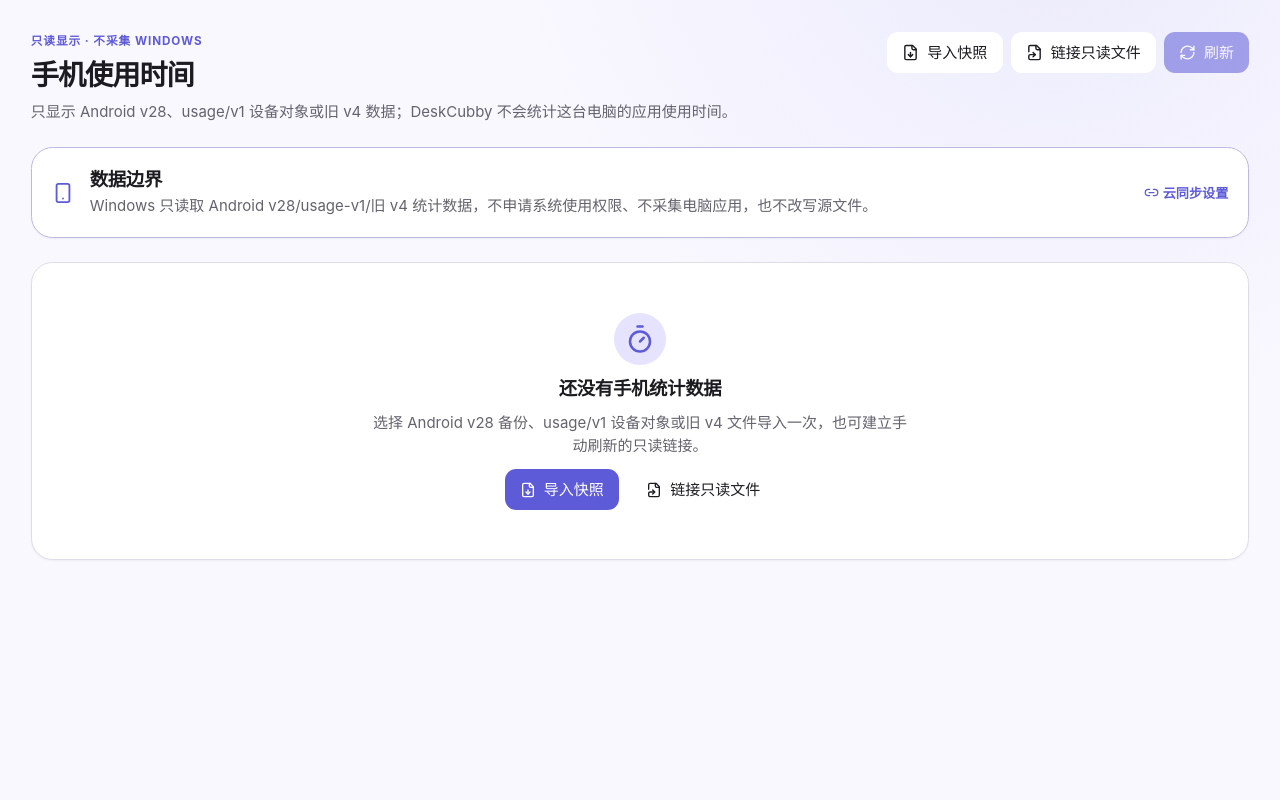
Test: UsagePage › offers snapshot import and a read-only link without any Windows tracking controls
Check: the heading "还没有手机统计数据" is shown, box [559,377,721,399]
Step 1. Click the button "导入快照" in the row of "只读显示 · 不采集 Windows" → click(945, 52), box [887,32,1002,73]
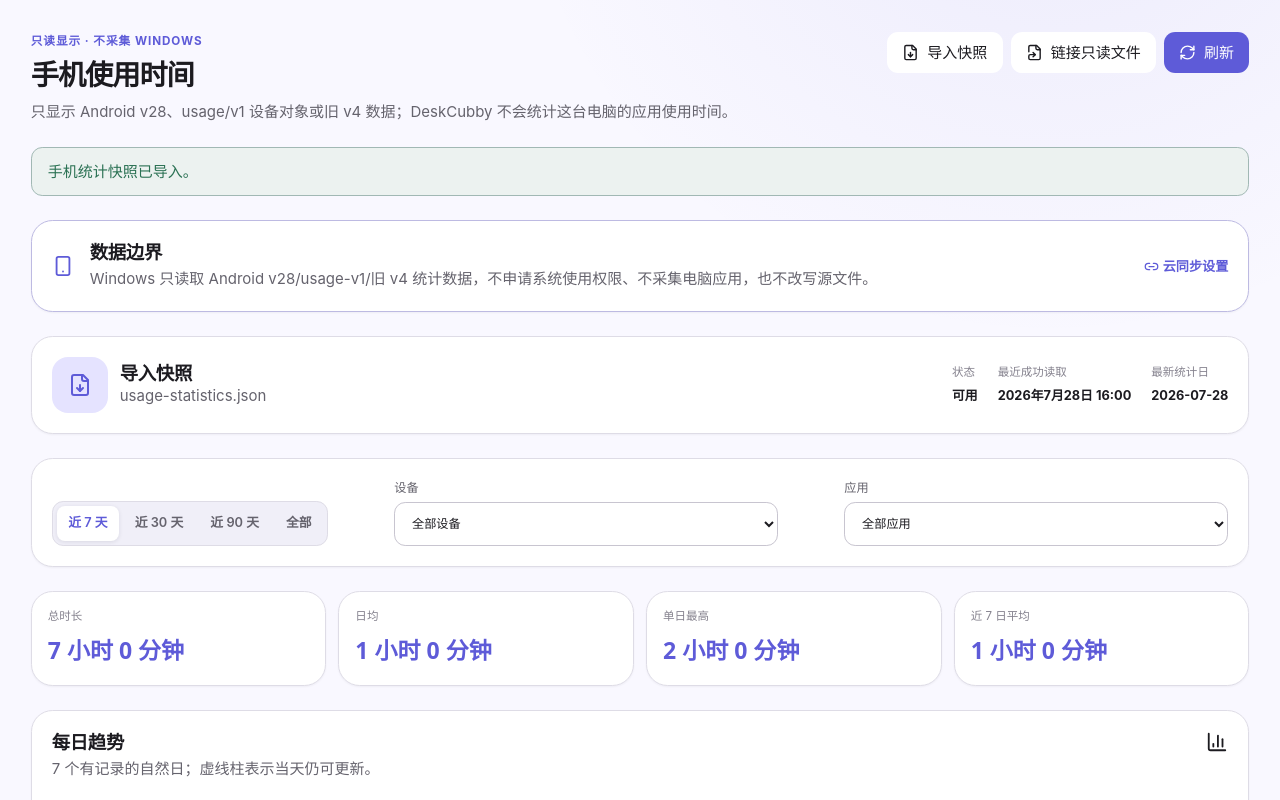
Check: the text "usage-statistics.json" is shown, box [120,384,266,407]
